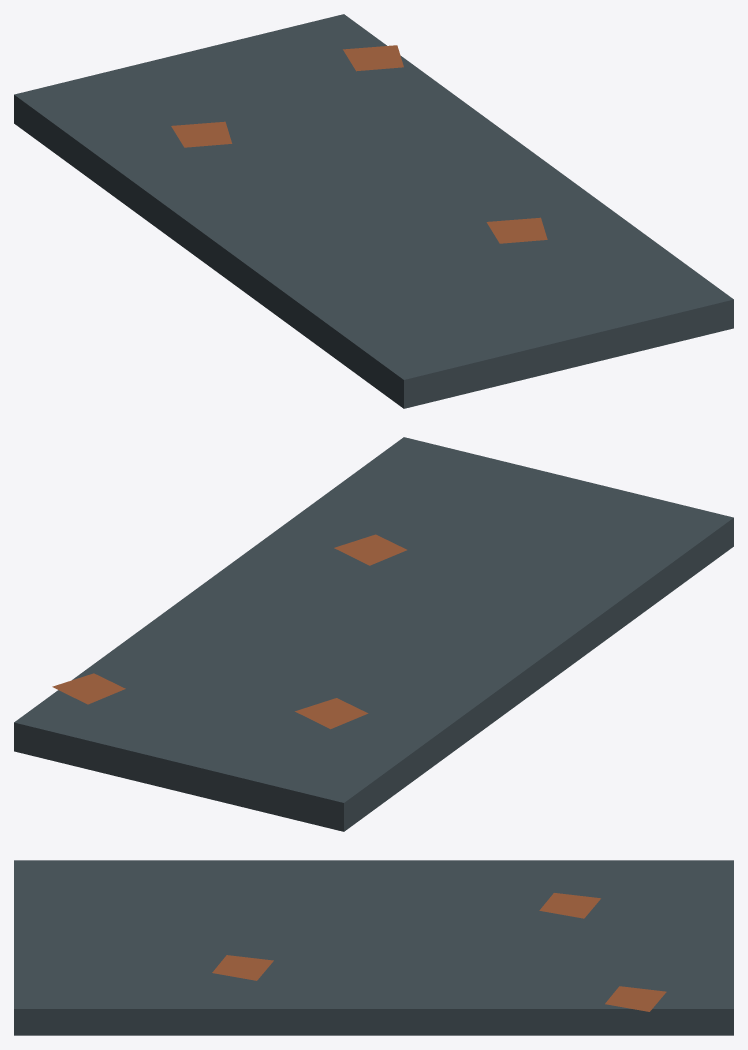
Rendered from Steel_Plate.glb.
The picture shows the model from 3 angles, top to bottom: view 1: azimuth 30°, elevation 25°; view 2: azimuth 150°, elevation 25°; view 3: azimuth 270°, elevation 25°; orthographic projection. The views are drawn at different scales.
Visible parts, largest first — view 1: Steel_Plate; view 2: Steel_Plate; view 3: Steel_Plate.
Boxes of the visible parts, left/top/right/bottom form: Steel_Plate: left=14, top=14, right=733, bottom=408; Steel_Plate: left=14, top=437, right=733, bottom=831; Steel_Plate: left=14, top=860, right=733, bottom=1035.
Bounding box in the file's own units: 0.44 × 0.0365 × 0.88.
